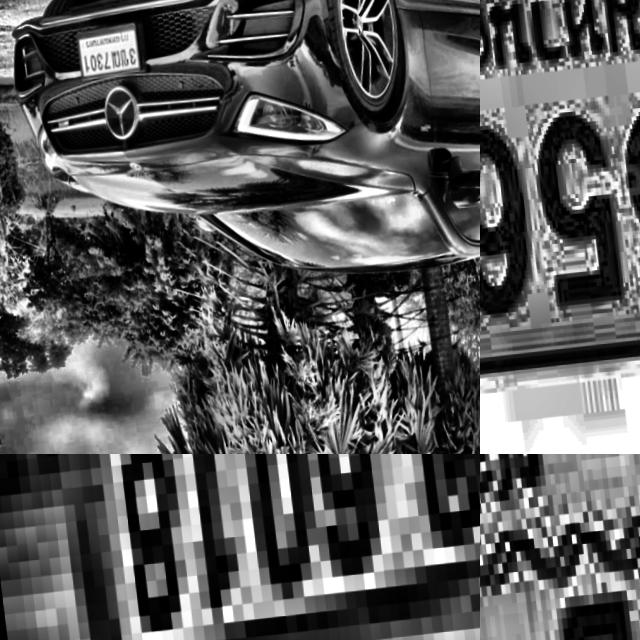license-plate: (0, 454, 480, 640), (480, 0, 640, 401), (480, 454, 640, 640), (73, 28, 141, 83)
